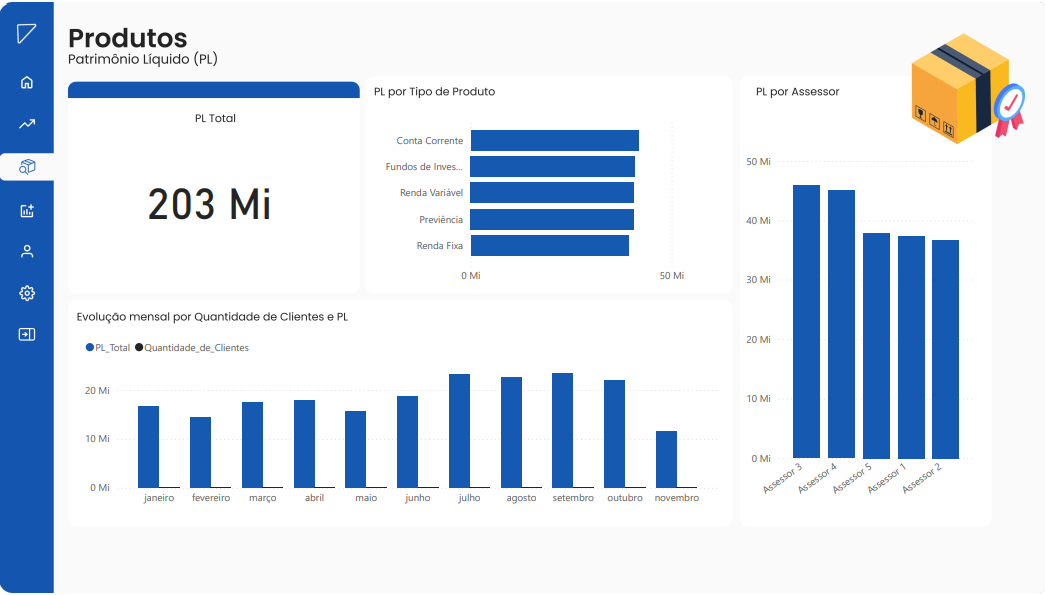

The page's visual inventory and layout, read from the dashboard file:
{"tool":"powerbi","page":{"name":"Produtos","canvas":[1280,720],"ordinal":1},"visuals":[{"type":"cardVisual","fields":{"Data":["PL_Combinado.PL Total"]},"box":[163,165,210,150],"z":0},{"type":"barChart","fields":{"Category":["PL_Combinado.Tipo de Produto"],"Y":["PL_Combinado.PL Total"]},"box":[453,129,436,222],"z":1000},{"type":"columnChart","fields":{"Category":["Clientes.Assessor"],"Y":["PL_Combinado.PL Total"]},"box":[906,179,288,443],"z":2000},{"type":"clusteredColumnChart","fields":{"Category":["PL_Combinado.Data.Variation.Hierarquia de datas.Ano","PL_Combinado.Data.Variation.Hierarquia de datas.Trimestre","PL_Combinado.Data.Variation.Hierarquia de datas.Mês","PL_Combinado.Data.Variation.Hierarquia de datas.Dia"],"Y":["PL_Combinado.PL Total","Clientes.Quantidade de Clientes"]},"box":[100,401,782,221],"z":3000}]}

Visuals, with their boxes on the page's 1280x720 design canvas (x1, y1, x2, y2). These are canvas units, not pixel positions in the 1045x595 screenshot, which may show the page scaled, cropped or inside an application window:
cardVisual - PL_Combinado.PL Total: bbox=(163, 165, 373, 315)
barChart - PL_Combinado.Tipo de Produto x PL_Combinado.PL Total: bbox=(453, 129, 889, 351)
columnChart - Clientes.Assessor x PL_Combinado.PL Total: bbox=(906, 179, 1194, 622)
clusteredColumnChart - PL_Combinado.Data.Variation.Hierarquia de datas.Ano x PL_Combinado.Data.Variation.Hierarquia de datas.Trimestre: bbox=(100, 401, 882, 622)
